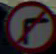Don't turn right: (8, 4, 50, 46)
